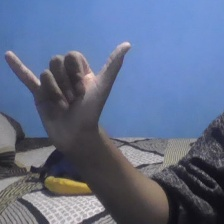Y: (3, 39, 135, 153)
